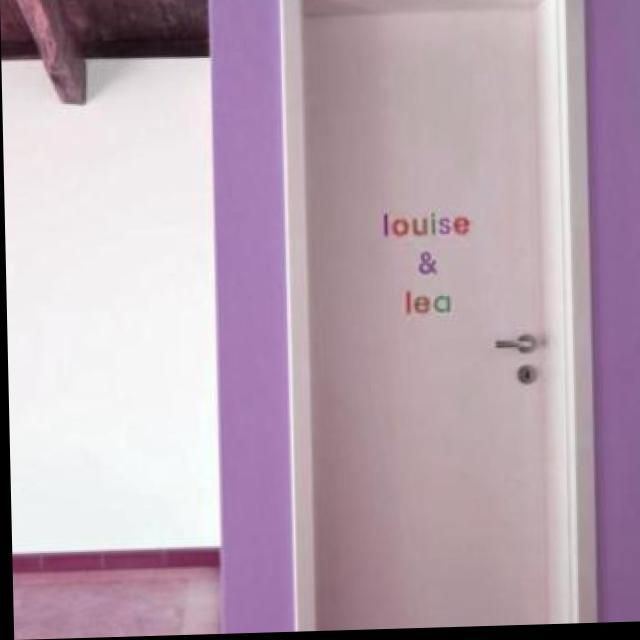door_handle: (488, 338, 539, 360)
